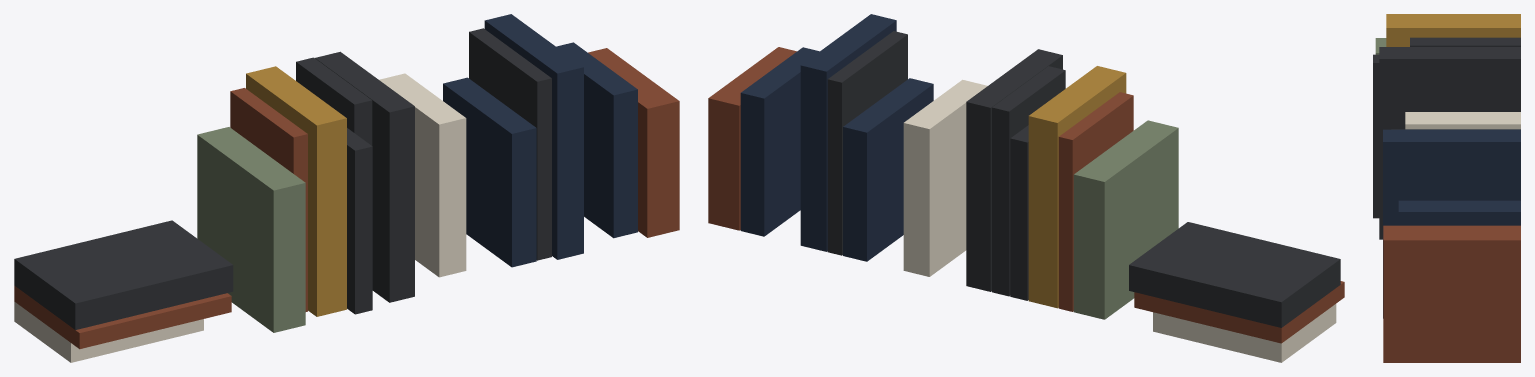
File: books-2.glb
3 renders of one model, left to right at view 1: azimuth 30°, elevation 25°; view 2: azimuth 150°, elevation 25°; view 3: azimuth 270°, elevation 25°, orthographic. The views are drawn at different scales.
Parts seen in each view (by area): view 1: books-2; view 2: books-2; view 3: books-2.
Part boxes in pixels (box(x1,y1,x2,y2)): books-2: box(14, 14, 679, 362); books-2: box(708, 14, 1344, 362); books-2: box(1373, 14, 1520, 362).
Bounding box in the file's own units: 0.9727 × 0.3004 × 0.2216.
